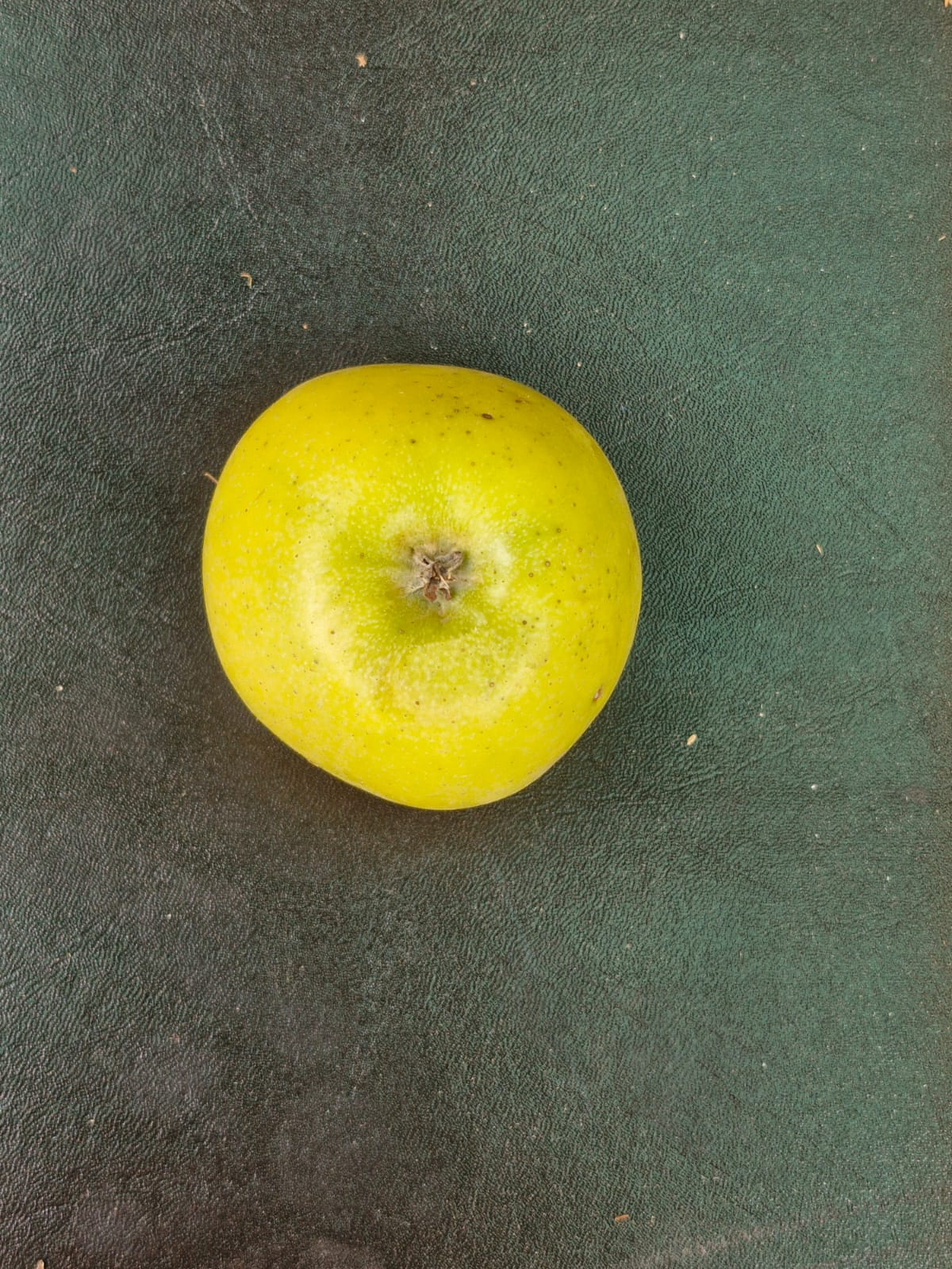apple: (184, 111, 883, 1210)
